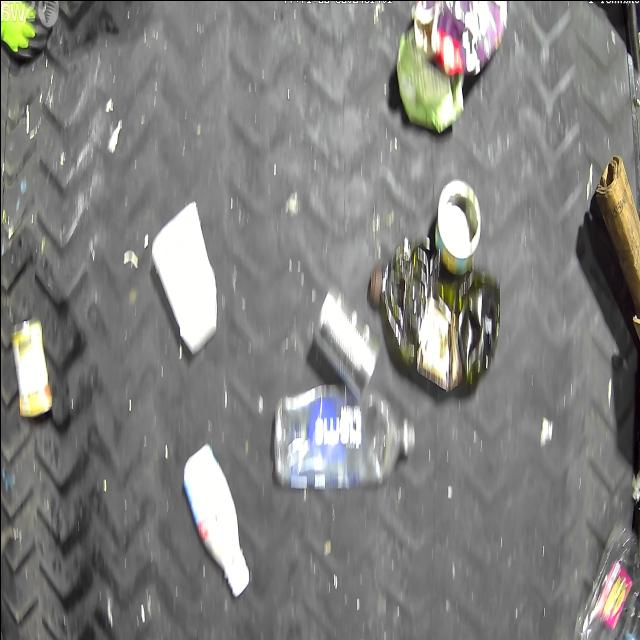can: (314, 288, 374, 390), (433, 178, 479, 272), (12, 317, 52, 421)
plastic_bottle: (271, 386, 414, 492)
